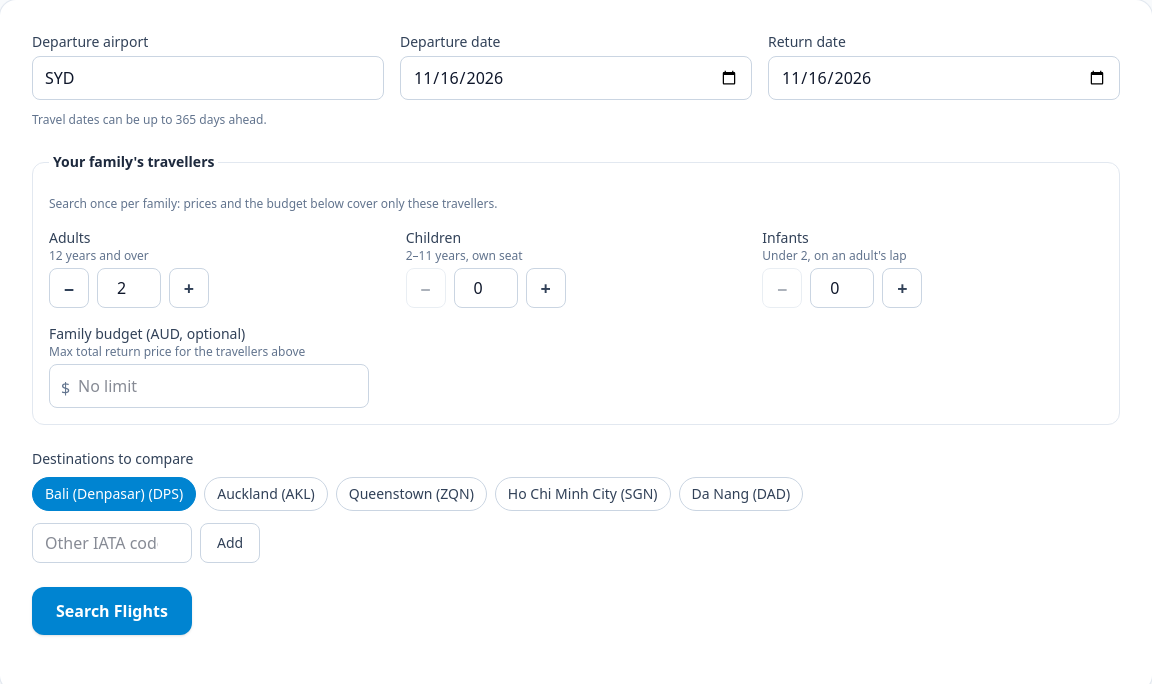
SearchForm › shows validation errors and does not navigate
Click the button "Bali (Denpasar) (DPS)" at {"x": 114, "y": 494}, box x1=32 y1=477 x2=196 y2=511
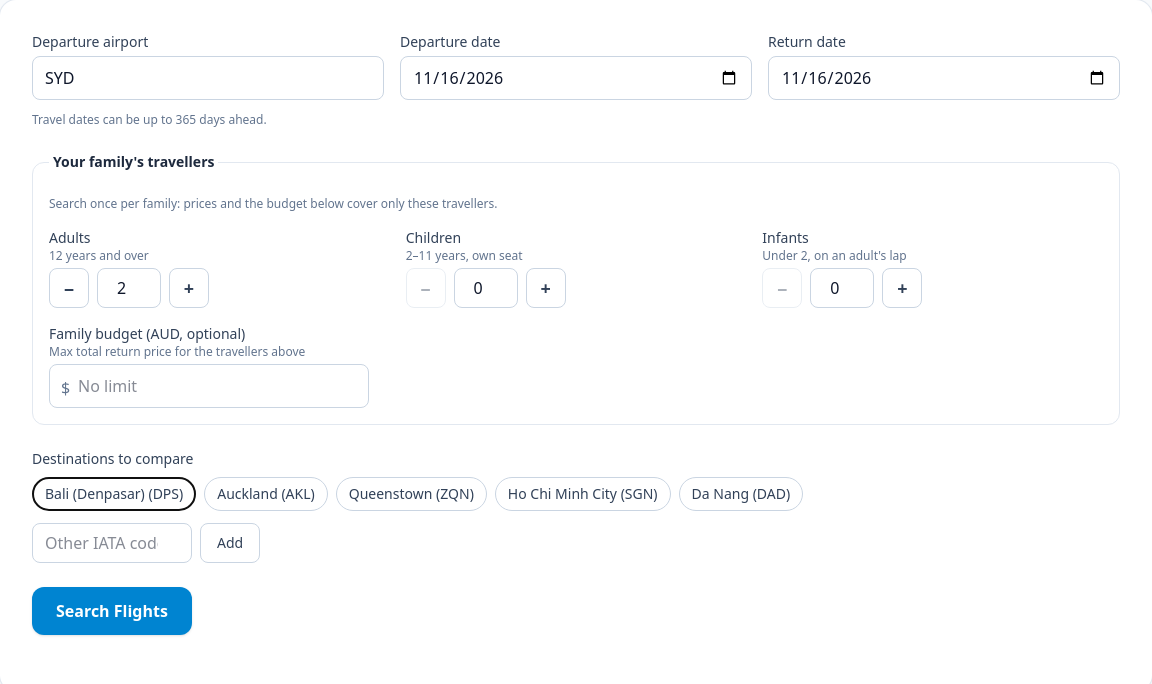
Clear the field labelled "Departure airport" at {"x": 208, "y": 78}, box x1=32 y1=56 x2=384 y2=100
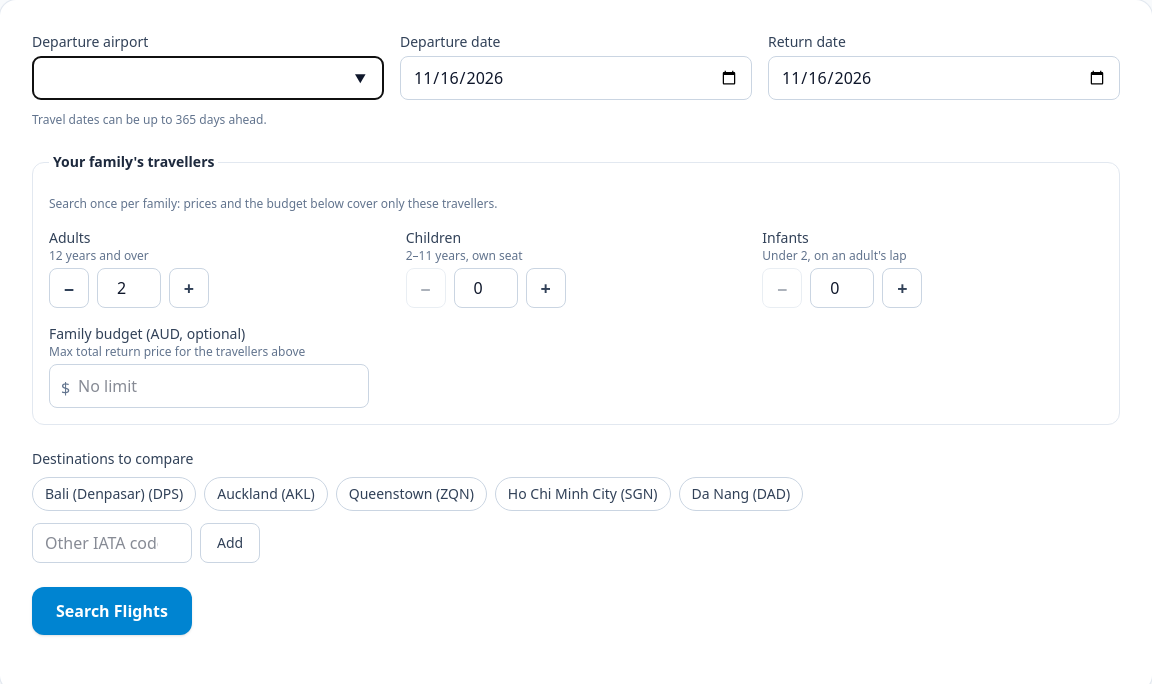
Click the button "Search Flights" at {"x": 112, "y": 611}, box x1=32 y1=587 x2=192 y2=635
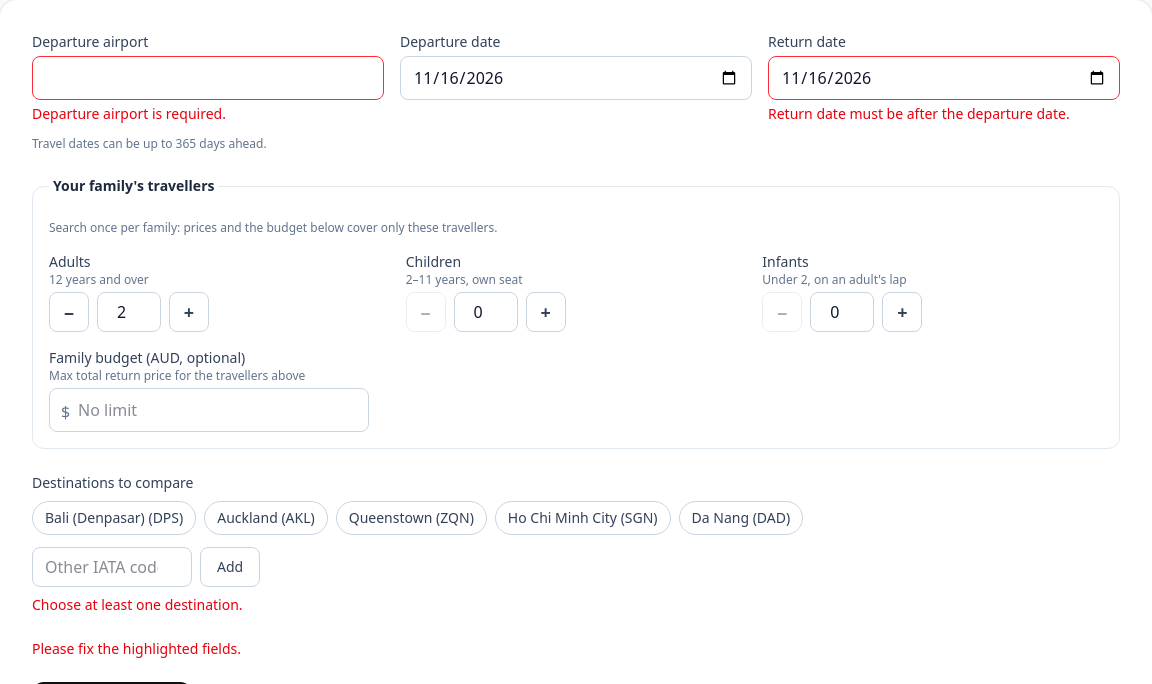
Now the text "Departure airport is required." is shown, box x1=32 y1=104 x2=226 y2=123
Now the text "Choose at least one destination." is shown, box x1=32 y1=595 x2=243 y2=614
Now the text "Return date must be after the departure date." is shown, box x1=768 y1=104 x2=1120 y2=124
